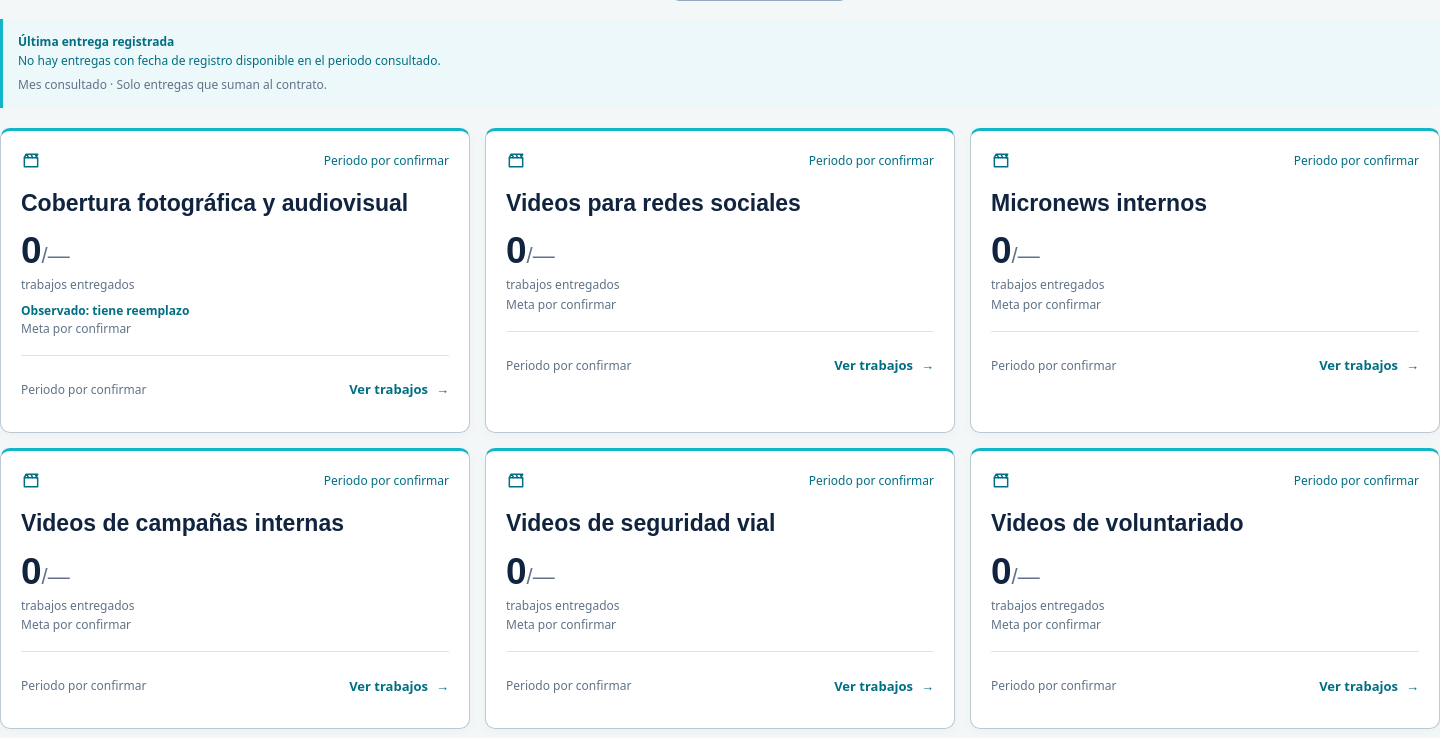
Test: contrato común con permisos de cliente › does not invent a target before the contract starts
Click the button with aria-label "Cobertura fotográfica y audiovisual:" at (399, 390), box top-left (349, 368), bottom-right (449, 412)
(page scrolled)
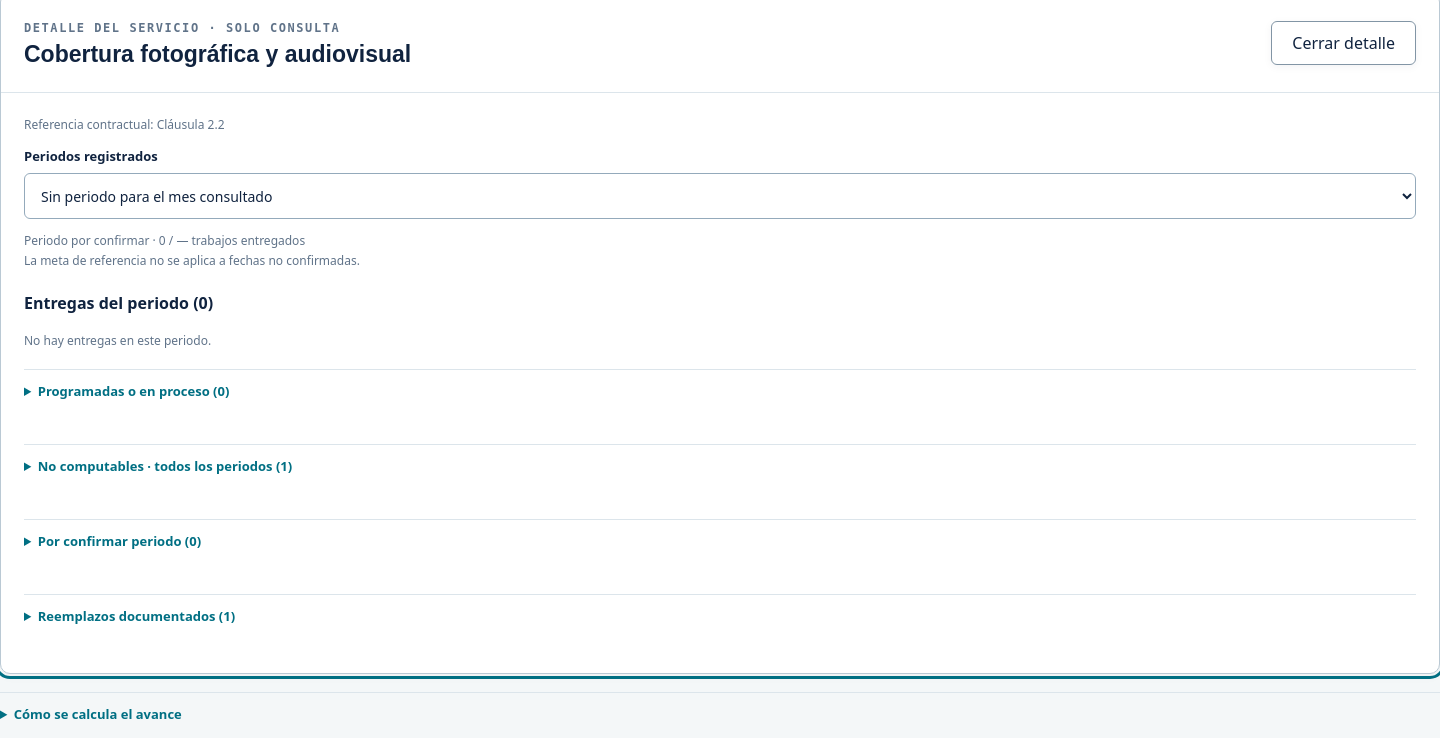
Check: the text "La meta de referencia no se aplica a fechas no confirmadas." is shown, box top-left (24, 252), bottom-right (360, 269)
